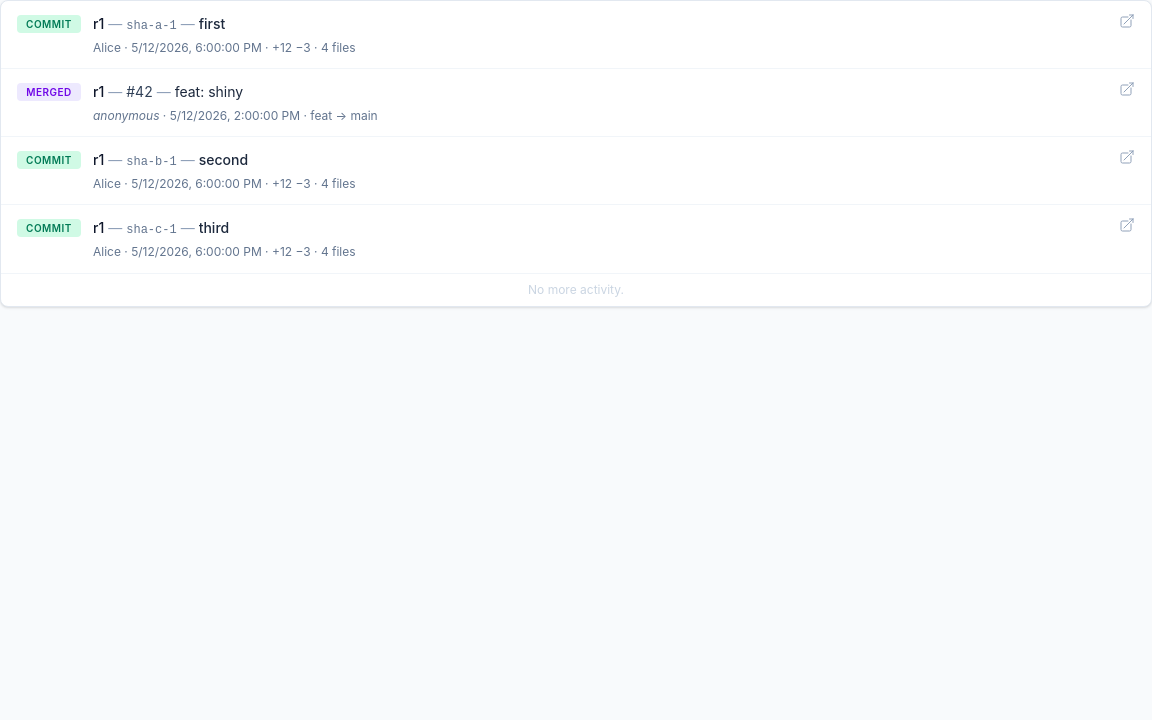
Test: ActivityFeed › commit detail modal › prev/next walks through commit-kind entries; PR rows are skipped
Step 1. Click the button "first" → (212, 24), box [199, 14, 1115, 34]
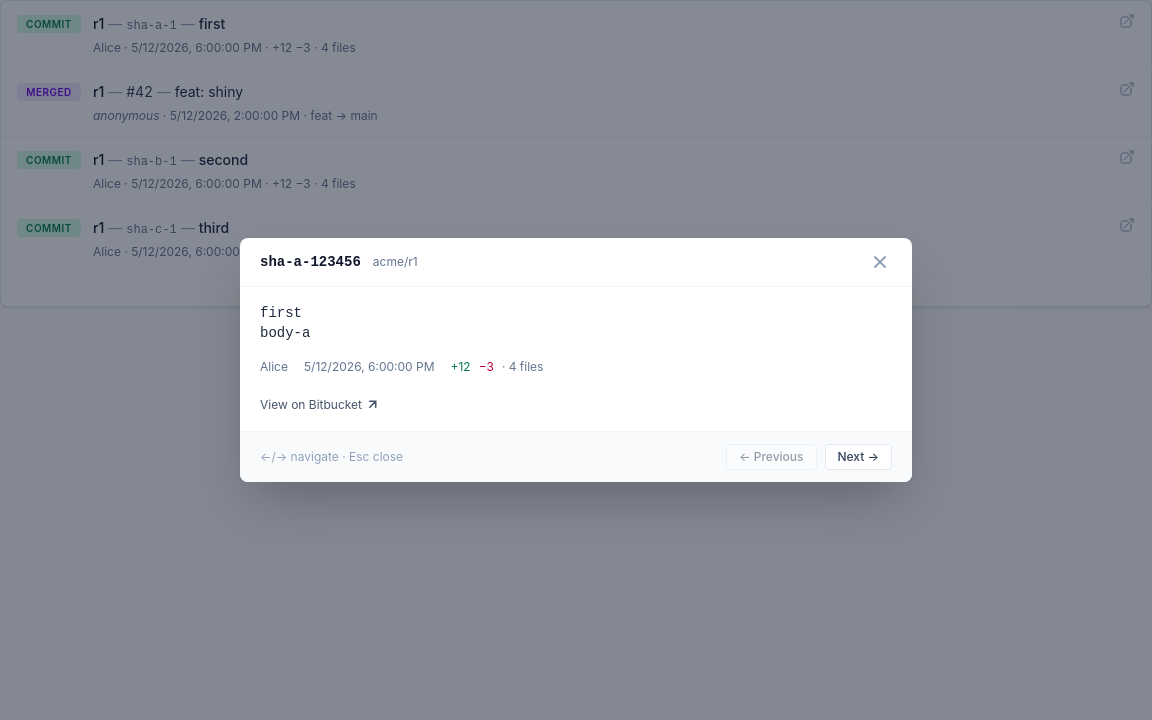
Check: the text "body-a" is shown, box [260, 305, 310, 341]
Check: the button "Next →" is enabled
Step 2. Click the button "Next →" → (858, 457), box [824, 444, 892, 470]
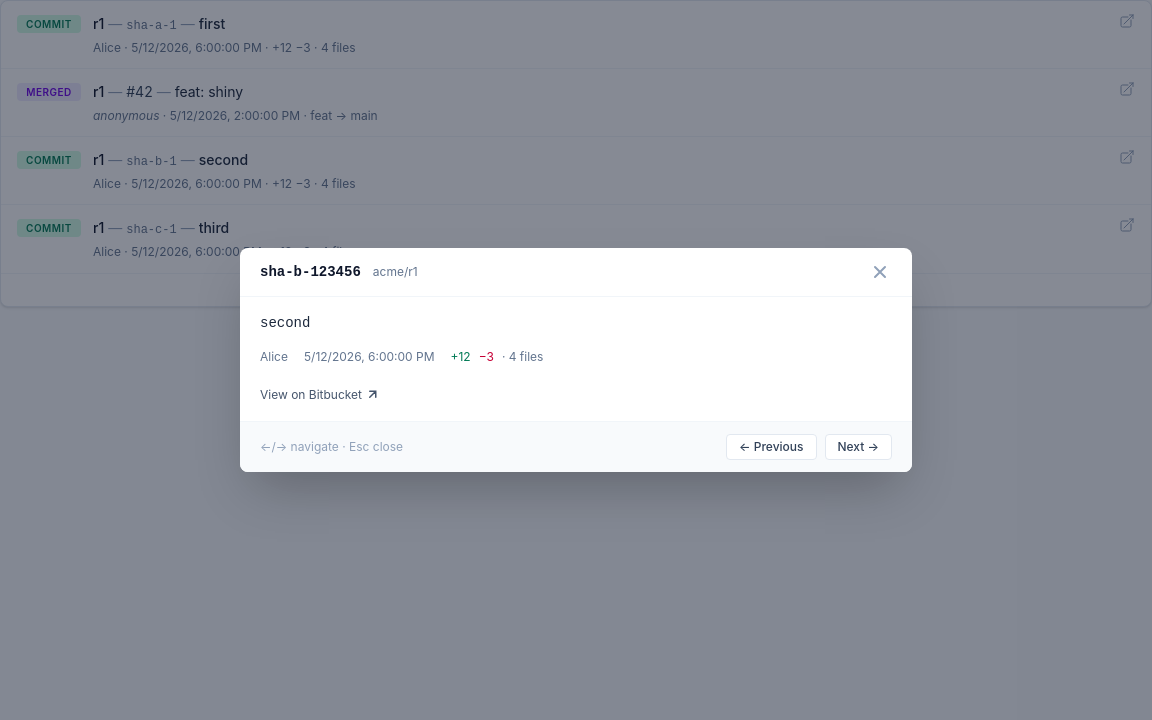
Check: the text "second" is shown, box [199, 150, 1115, 170]
Hit Next → commitC.
Step 3. Click the button "Next →" → (858, 447), box [824, 434, 892, 460]
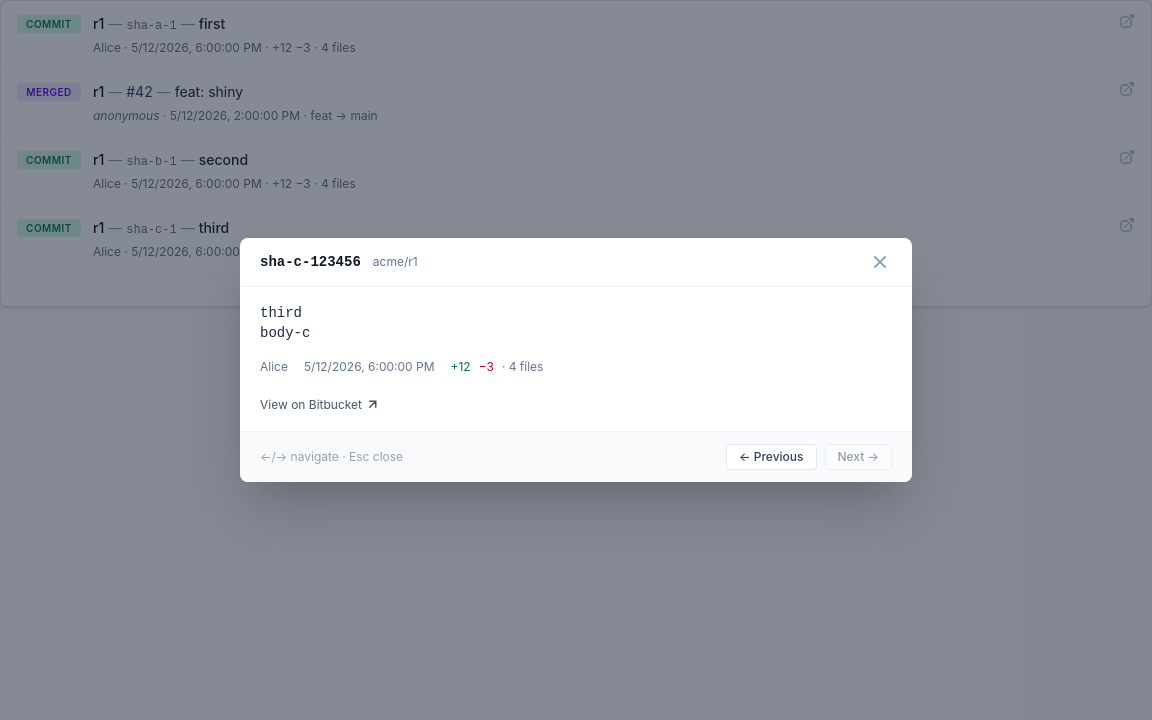
Check: the text "body-c" is shown, box [260, 305, 310, 341]
Check: the button "Next →" is disabled, box [824, 444, 892, 470]
